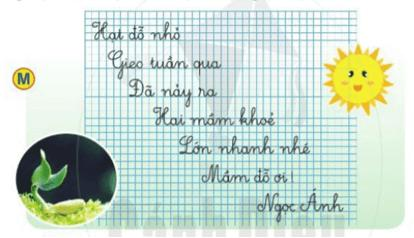text: (108, 48, 223, 80), (257, 189, 345, 225), (178, 134, 312, 156), (127, 78, 219, 108), (152, 106, 277, 128), (91, 20, 182, 44), (201, 163, 295, 184), (17, 72, 30, 85)
